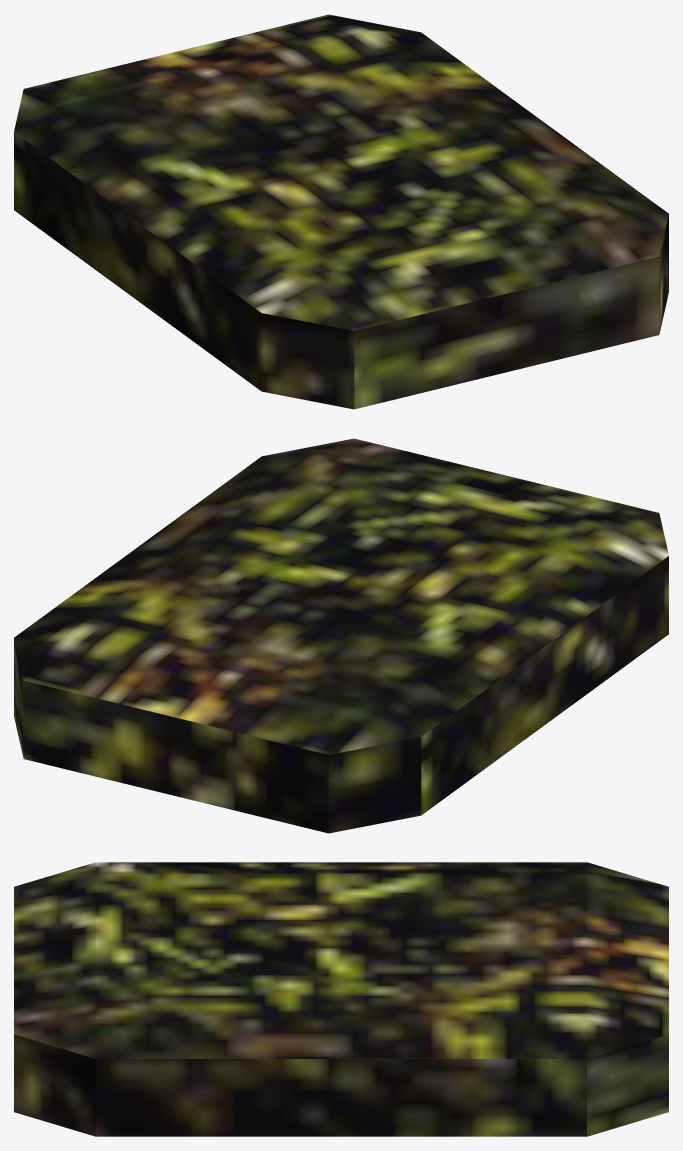
File: plat_2.fbx
3 views of the same model, one above another, from view 1: azimuth 30°, elevation 25°; view 2: azimuth 150°, elevation 25°; view 3: azimuth 270°, elevation 25° (orthographic).
Visible parts, largest first — view 1: Cube; view 2: Cube; view 3: Cube.
Boxes of the visible parts, <box> form: Cube: <box>14,14,668,409</box>; Cube: <box>14,438,668,833</box>; Cube: <box>14,862,668,1136</box>.
Size of the model in its own units: 142 by 34.97 by 200.
Materials: 1 (1 with a texture image).
